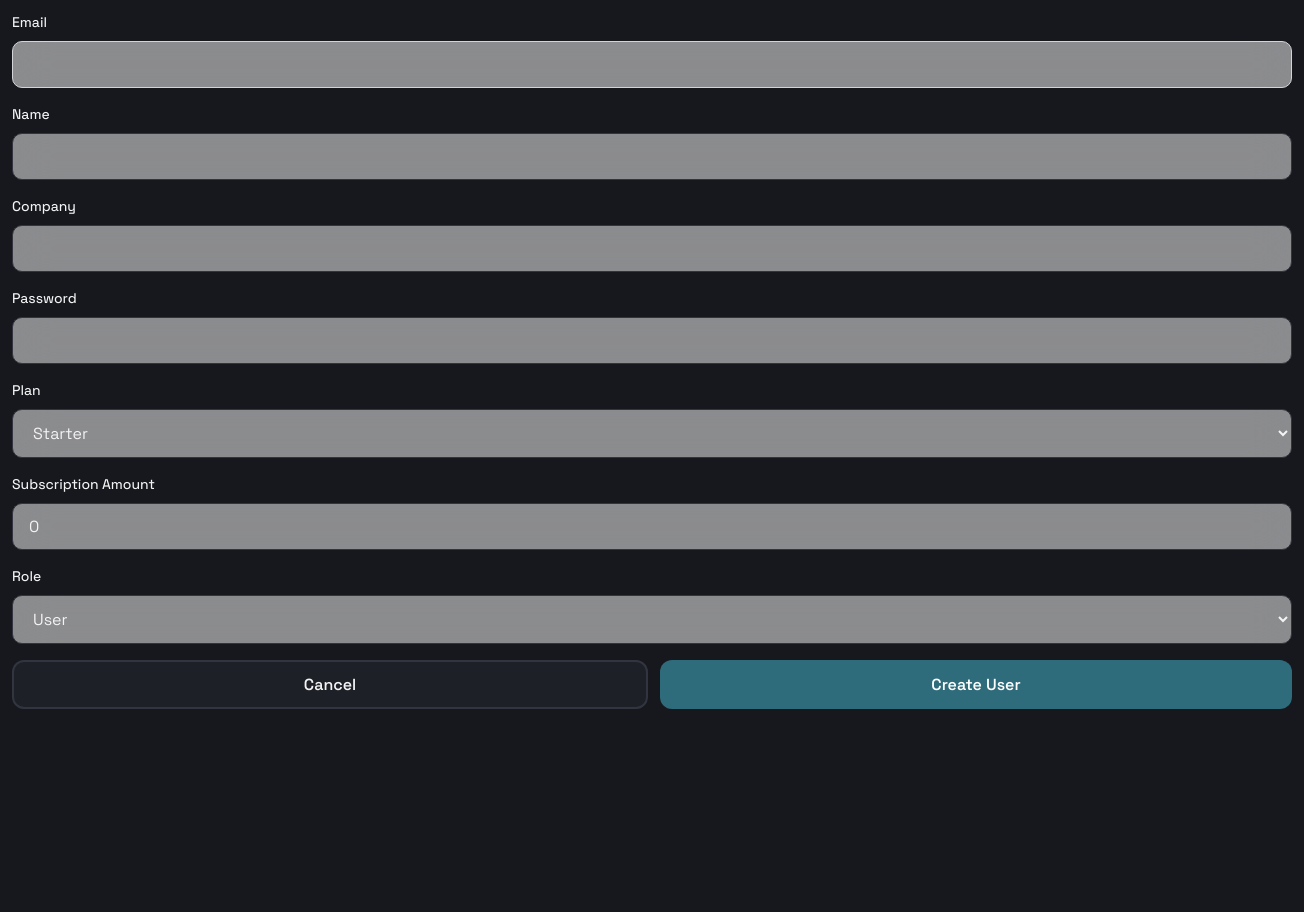
it: UserForm Component › Interactions › devrait afficher un spinner pendant la soumission
The image size is (1304, 912).
In the field labelled "Email": (652, 64) x1=12 y1=41 x2=1292 y2=88, type "test@example.com"
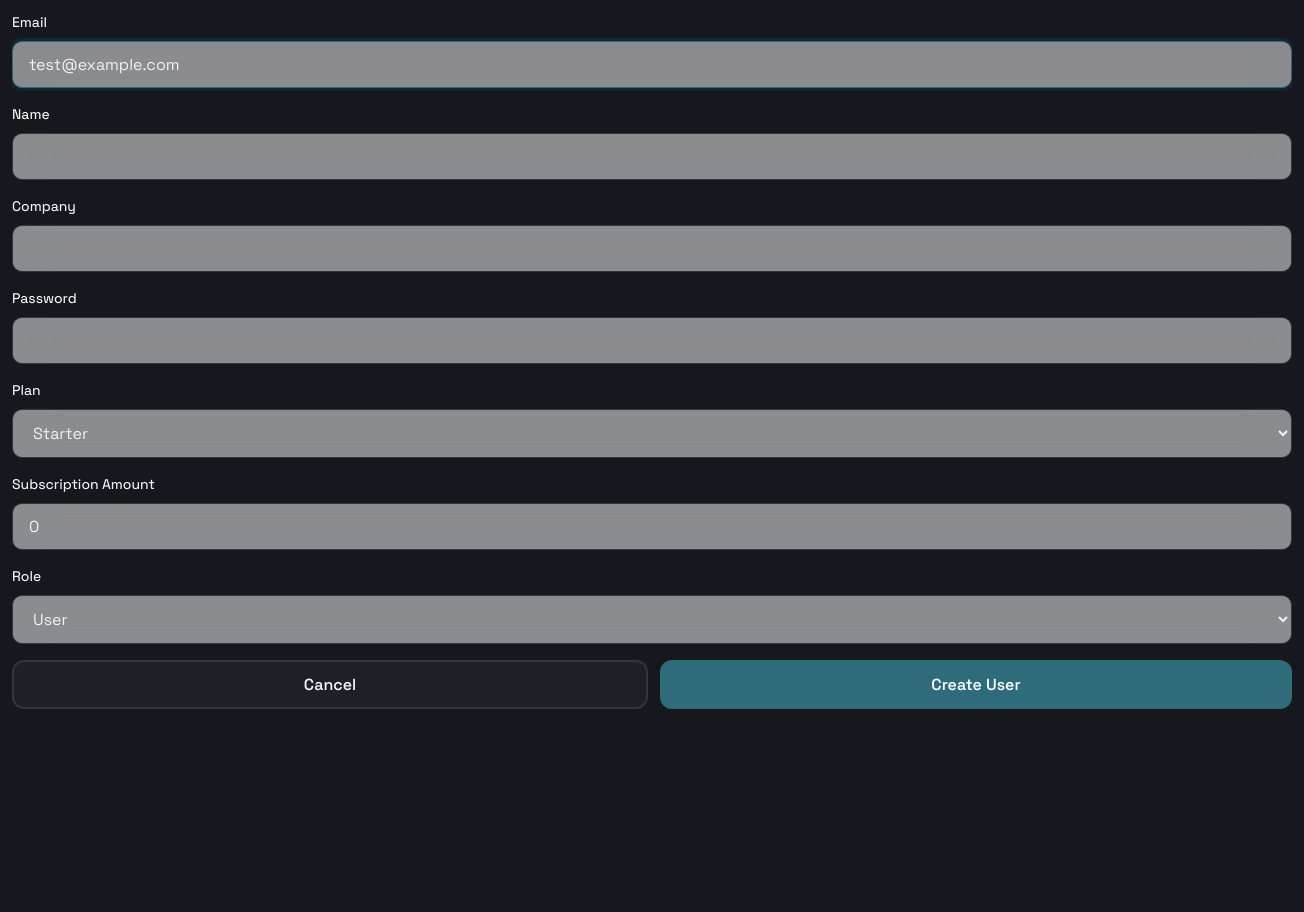
In the field labelled "Name": (652, 156) x1=12 y1=133 x2=1292 y2=180, type "Test User"
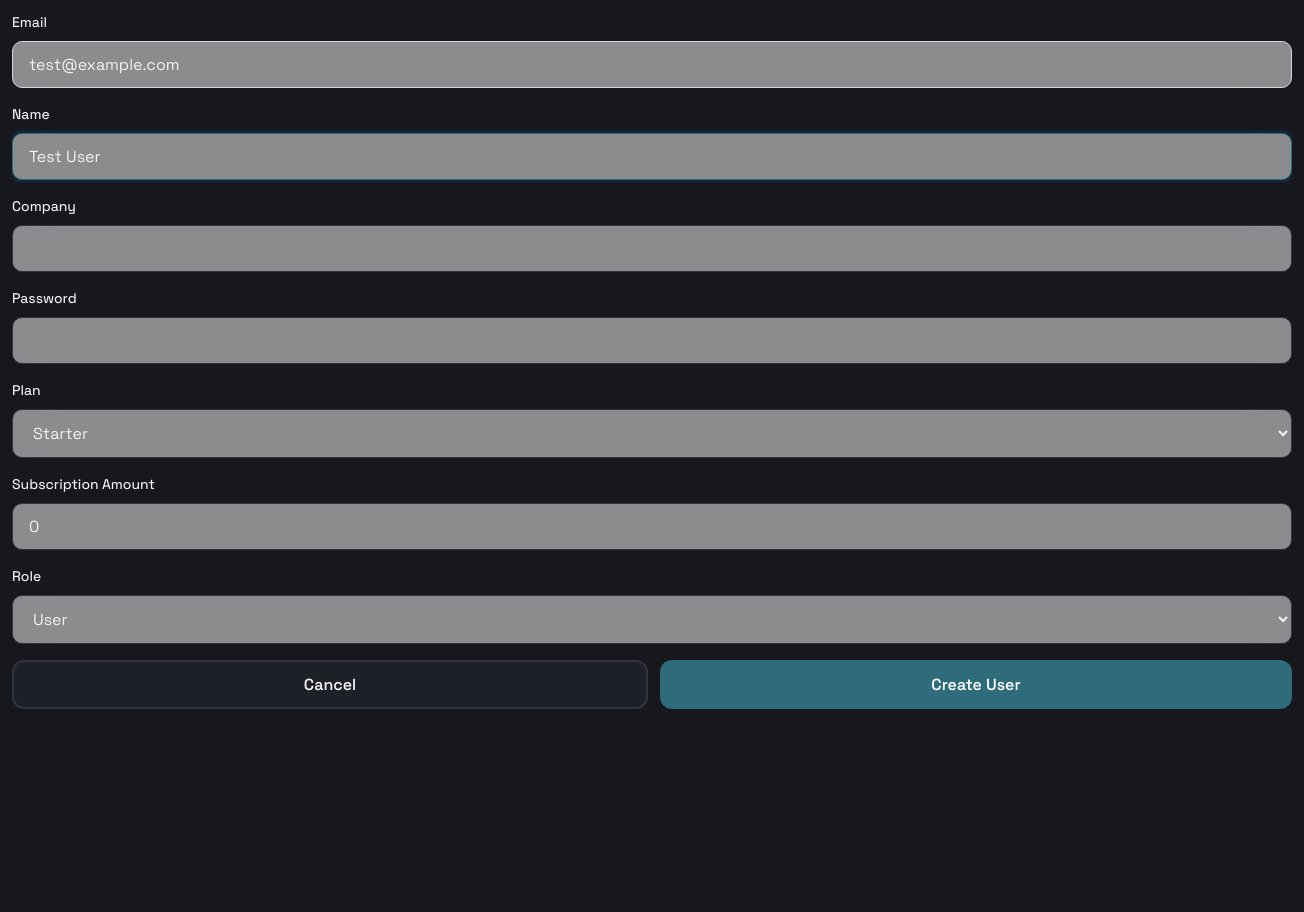
In the field labelled "Company": (652, 248) x1=12 y1=225 x2=1292 y2=272, type "Test Company"
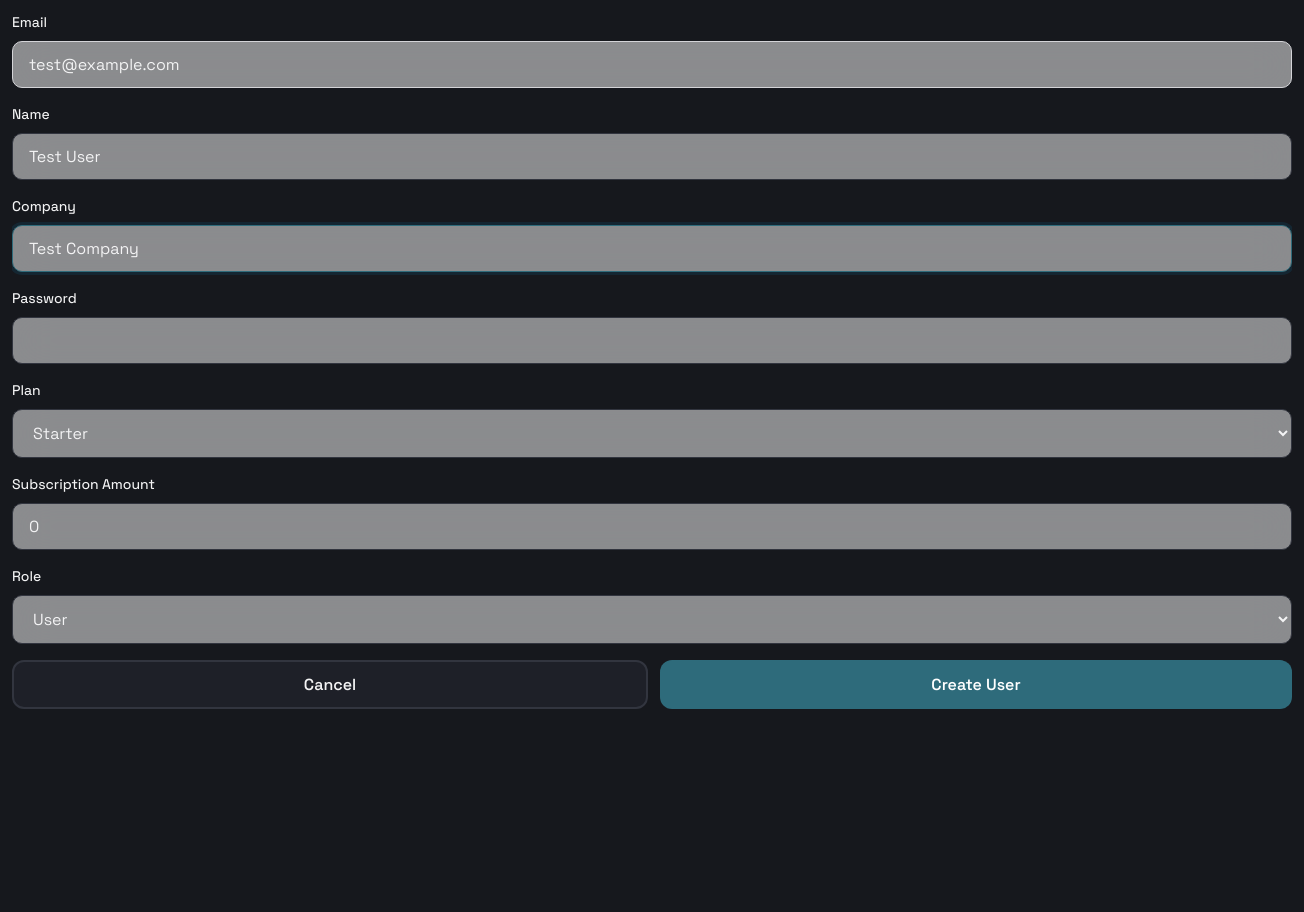
In the password field labelled "Password": (652, 340) x1=12 y1=317 x2=1292 y2=364, type "password123"
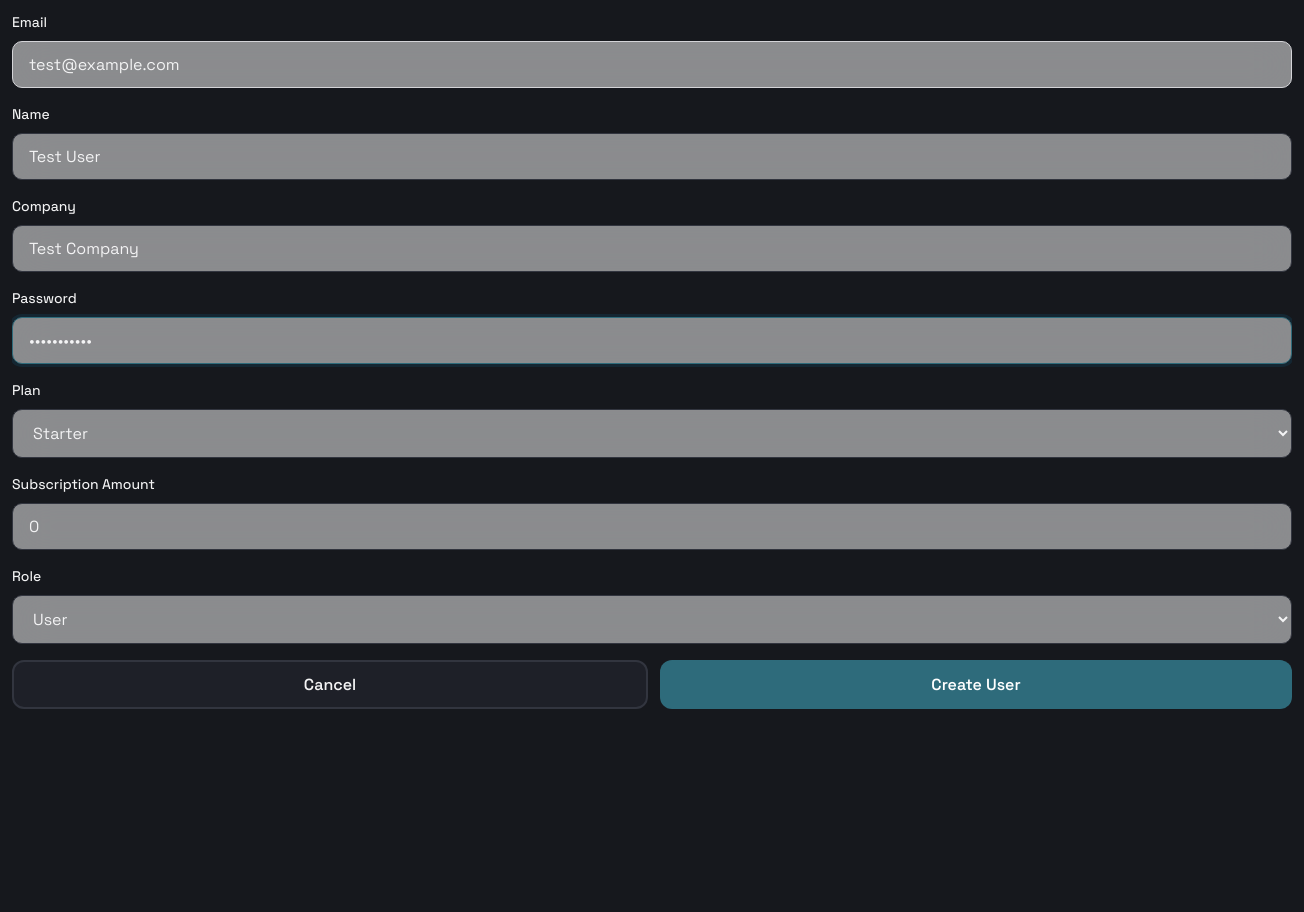
Click the button "Create User": (976, 684) x1=660 y1=660 x2=1292 y2=709
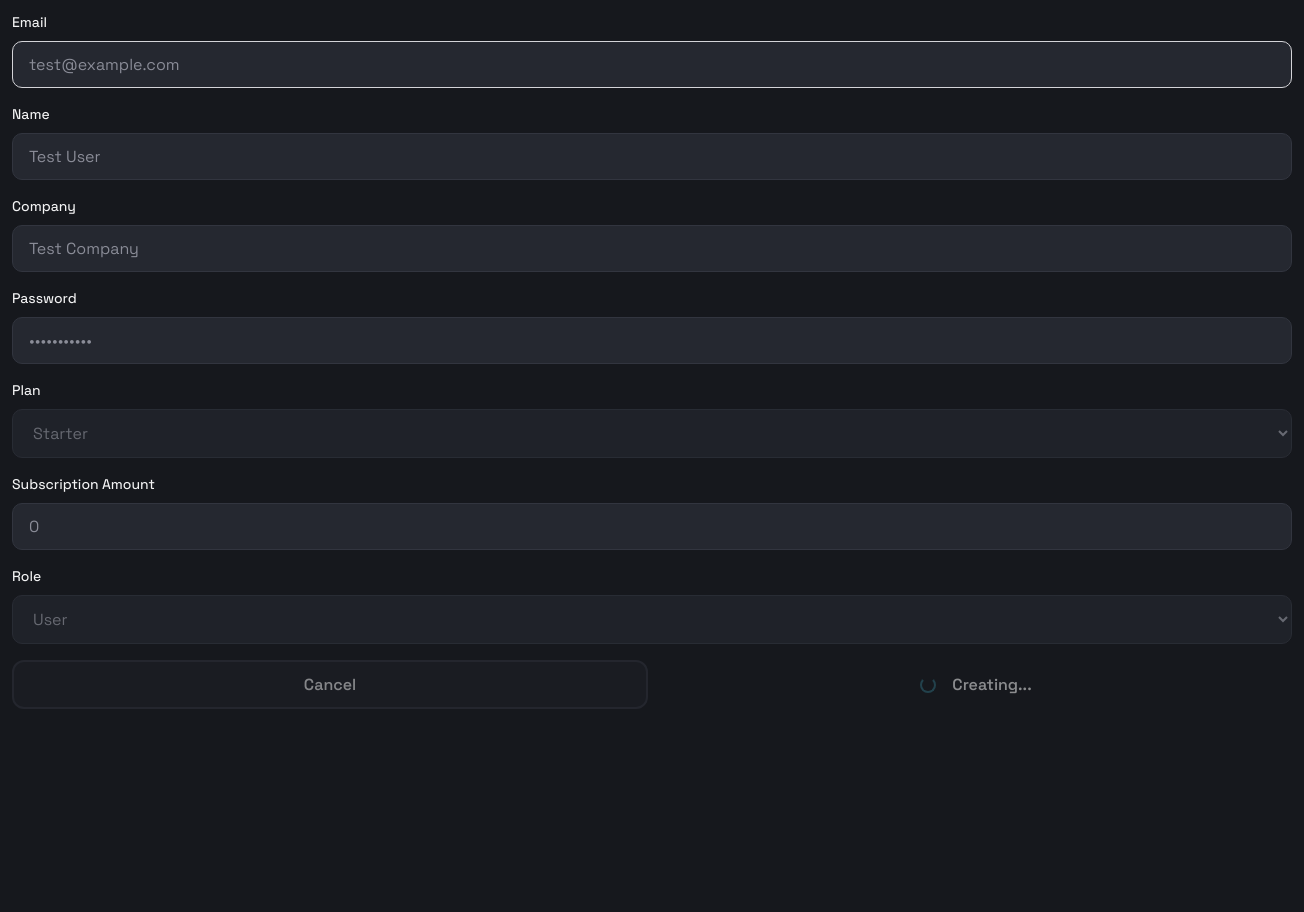
Check: the element with test id "loading-spinner" is shown, box x1=920 y1=676 x2=936 y2=692
